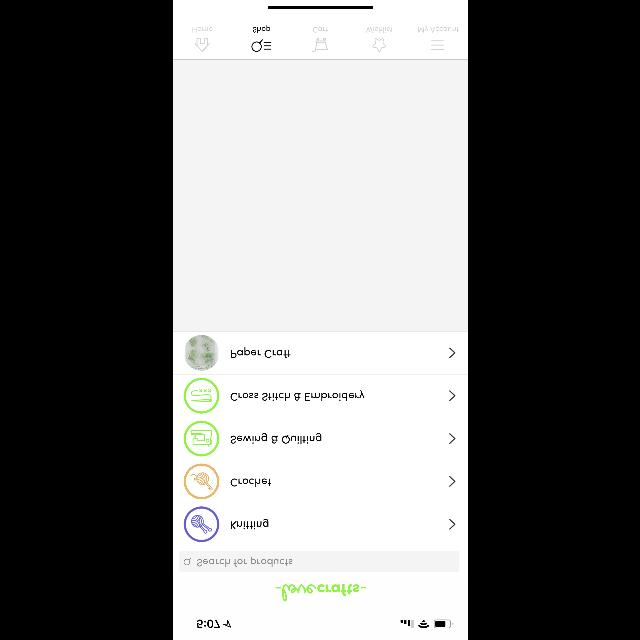icon: (251, 40, 271, 52), (311, 38, 327, 52), (194, 38, 210, 52), (372, 38, 386, 52), (431, 40, 444, 50), (449, 391, 455, 402), (449, 432, 455, 443), (449, 348, 455, 358), (449, 476, 455, 486), (449, 519, 455, 529), (183, 558, 190, 564)
image: (275, 584, 365, 602), (183, 378, 219, 414), (183, 506, 219, 542), (184, 420, 218, 456), (184, 336, 218, 370), (184, 464, 218, 498)
input: (178, 550, 460, 572)
text: (230, 391, 364, 402), (230, 432, 320, 443), (196, 556, 292, 566), (230, 348, 290, 358), (230, 518, 268, 530), (230, 478, 270, 486), (418, 26, 458, 32), (252, 26, 270, 32), (366, 28, 392, 32), (192, 28, 212, 32), (312, 28, 328, 32)
uppertaskbar: (196, 620, 452, 628)
